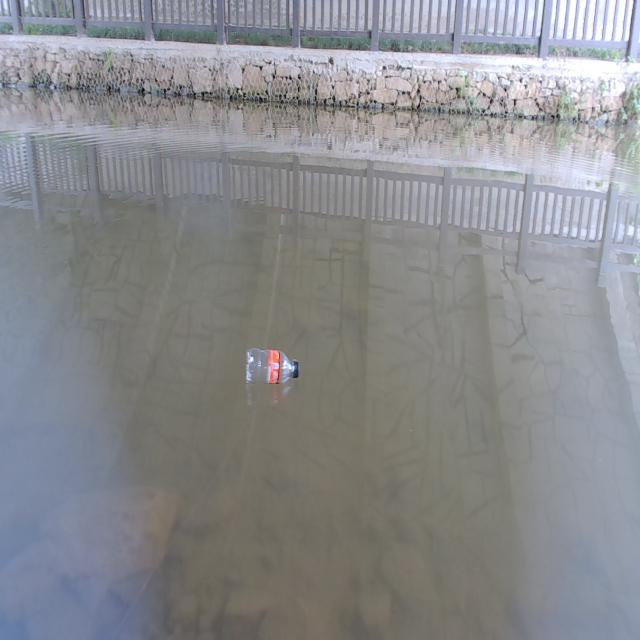Bottle: (243, 343, 301, 390)
